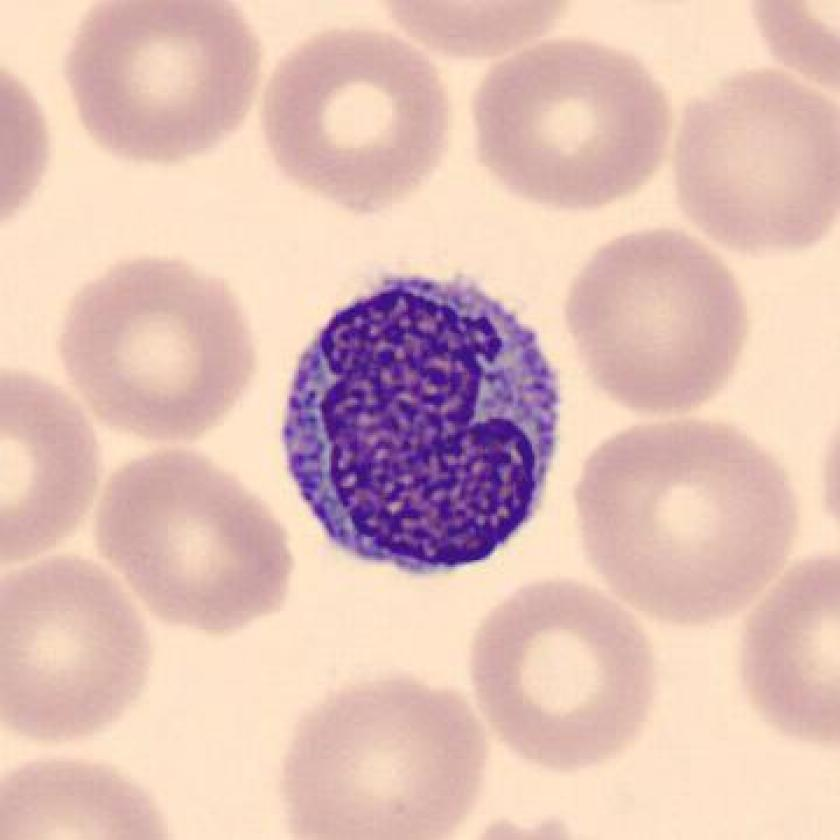monocyte: (260, 251, 580, 593)
